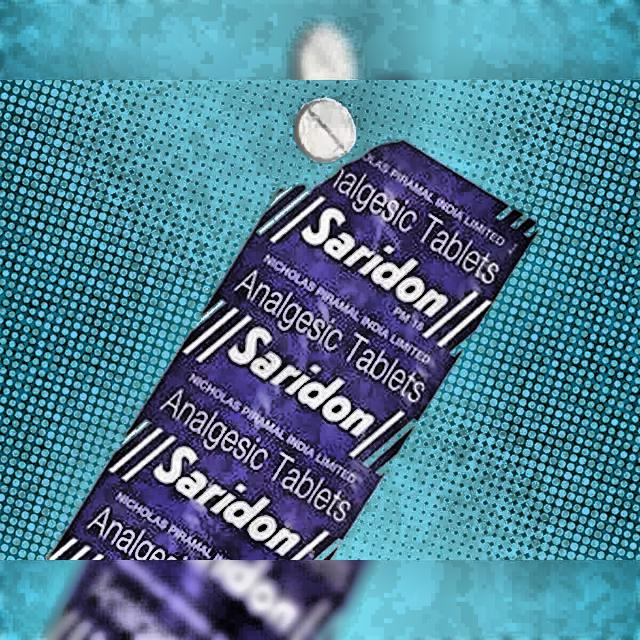Saridon: (55, 144, 535, 565)
